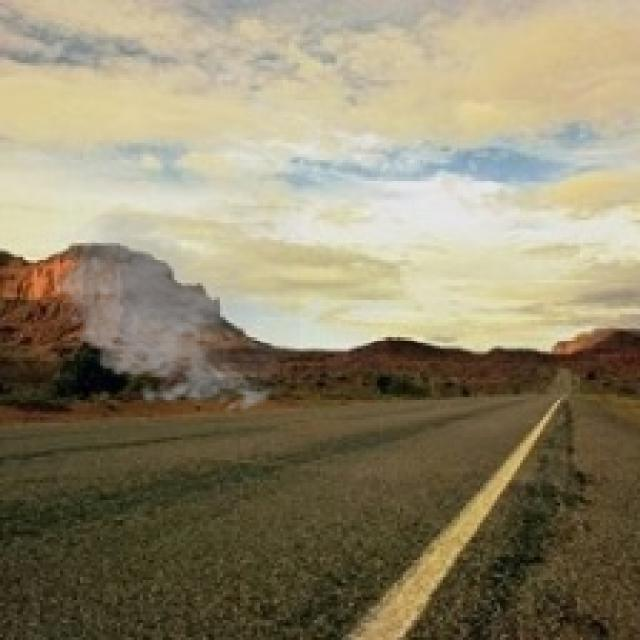Smoke: (43, 206, 300, 417)
